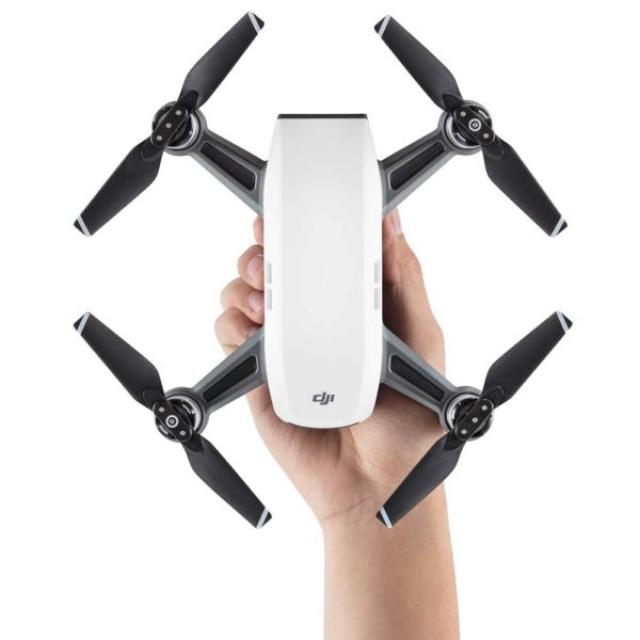drone: (44, 31, 607, 496)
